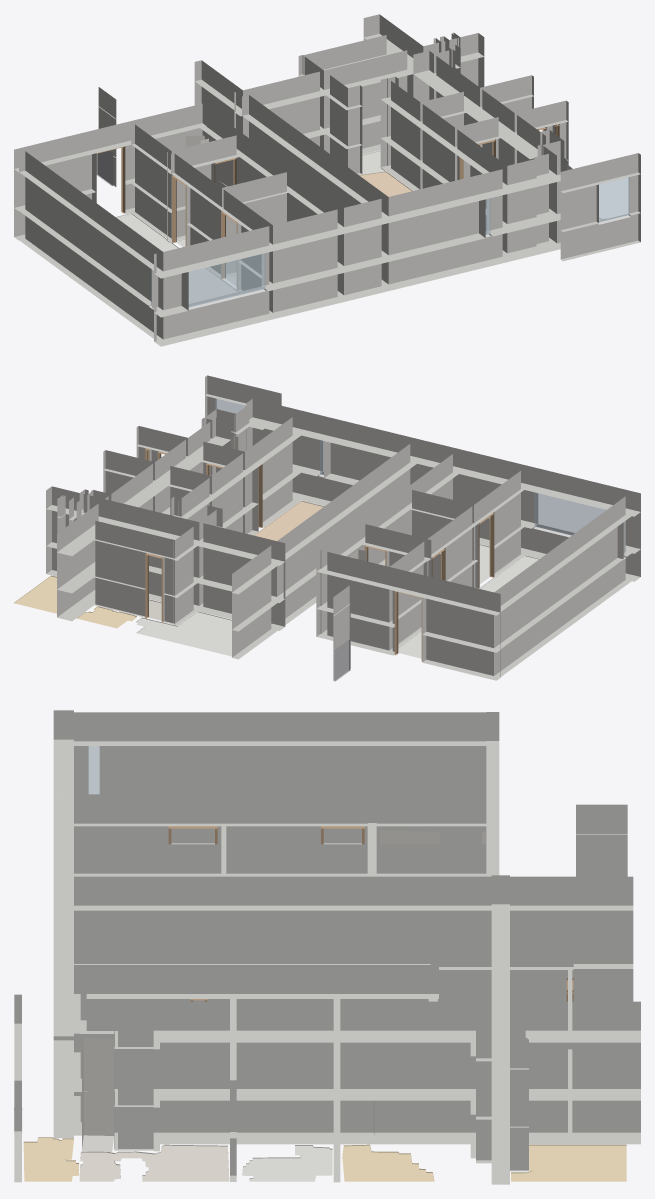
The picture shows the model from 3 angles, top to bottom: view 1: azimuth 30°, elevation 25°; view 2: azimuth 150°, elevation 25°; view 3: azimuth 270°, elevation 25°; orthographic projection. The views are drawn at different scales.
Visible parts, largest first — view 1: walls, window_6, floor_4_Undefined, window_8, floor_1_Living_Room, railings, furniture_2_closet, door_1; view 2: walls, floor_15_Undefined, window_6, floor_4_Undefined, floor_1_Living_Room, floor_11_Kitchen, floor_10_Kitchen, railings, door_2, door_5, door_0; view 3: walls, floor_14_Entry, floor_11_Kitchen, furniture_5_closet, floor_12_Kitchen, floor_16_Undefined, floor_13_Kitchen, furniture_3_closet.
Boxes of the visible parts, bbox=[...] form: walls: bbox=[14, 14, 640, 346]; window_6: bbox=[188, 253, 265, 307]; floor_4_Undefined: bbox=[116, 213, 238, 303]; window_8: bbox=[599, 176, 629, 222]; floor_1_Living_Room: bbox=[359, 171, 412, 196]; railings: bbox=[96, 151, 113, 186]; furniture_2_closet: bbox=[200, 138, 233, 187]; door_1: bbox=[172, 174, 186, 246]; walls: bbox=[46, 375, 640, 680]; floor_15_Undefined: bbox=[136, 611, 231, 656]; window_6: bbox=[534, 492, 608, 535]; floor_4_Undefined: bbox=[398, 555, 539, 658]; floor_1_Living_Room: bbox=[254, 501, 323, 540]; floor_11_Kitchen: bbox=[14, 575, 56, 613]; floor_10_Kitchen: bbox=[77, 606, 136, 628]; railings: bbox=[334, 639, 350, 681]; door_2: bbox=[478, 512, 494, 588]; door_5: bbox=[145, 553, 163, 622]; door_0: bbox=[394, 591, 422, 661]; walls: bbox=[14, 710, 640, 1184]; floor_14_Entry: bbox=[79, 1144, 229, 1181]; floor_11_Kitchen: bbox=[511, 1144, 626, 1181]; furniture_5_closet: bbox=[82, 1038, 113, 1151]; floor_12_Kitchen: bbox=[342, 1144, 434, 1181]; floor_16_Undefined: bbox=[242, 1145, 332, 1181]; floor_13_Kitchen: bbox=[23, 1137, 78, 1181]; furniture_3_closet: bbox=[378, 830, 440, 844].
Bounding box in the file's own units: 15.17 × 2.72 × 11.71.
